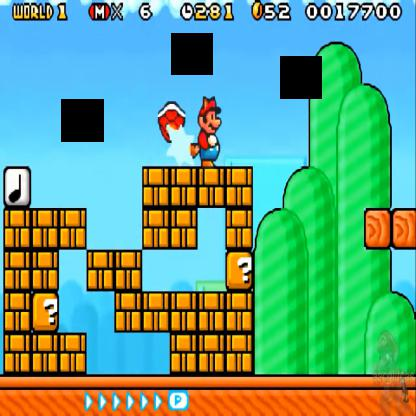Mario: (189, 91, 226, 165)
caparazon: (157, 98, 187, 148)
moneda: (251, 0, 263, 25)
